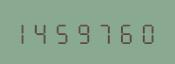five: (57, 20, 76, 44)
four: (37, 20, 56, 44)
nine: (77, 20, 96, 44)
one: (17, 20, 36, 44)
seven: (97, 20, 116, 44)
six: (117, 20, 136, 44)
zero: (137, 20, 156, 44)
